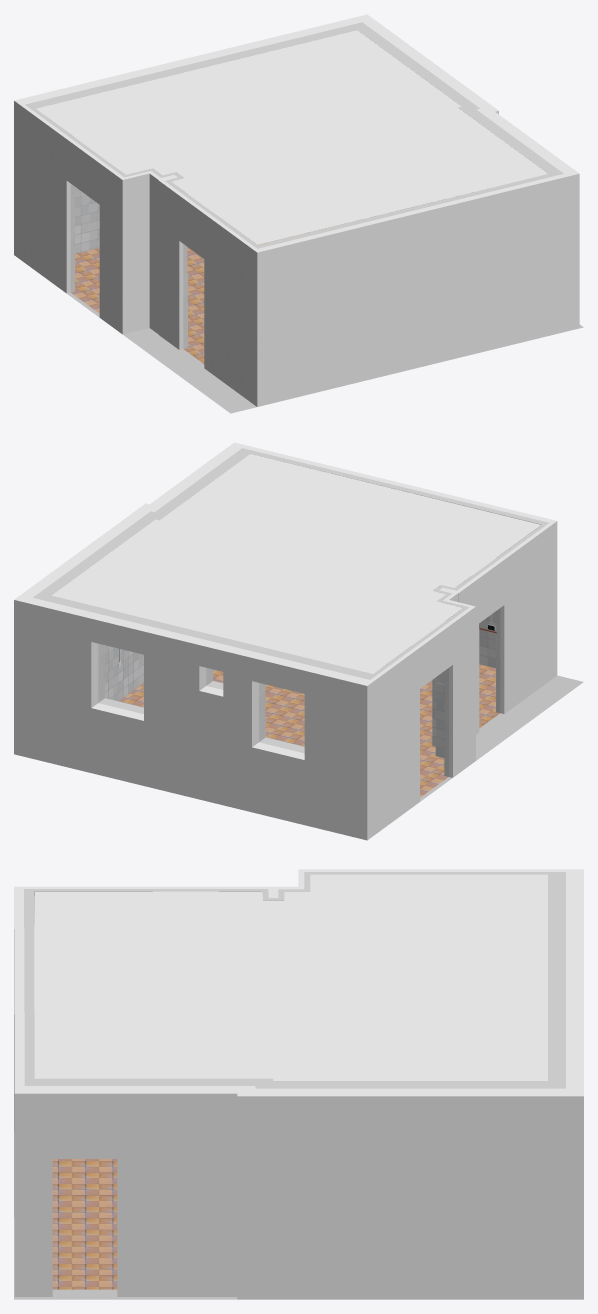
File: KüchenAssets.fbx
3 views of the same model, one above another, from view 1: azimuth 30°, elevation 25°; view 2: azimuth 150°, elevation 25°; view 3: azimuth 270°, elevation 25° (orthographic). The views are drawn at different scales.
Visible parts, largest first — view 1: Küche; view 2: Küche; view 3: Küche.
Boxes of the visible parts, x1,y1,x2,y2 form: Küche: (14,14,583,413); Küche: (14,442,583,840); Küche: (14,869,583,1299).
Size of the model in its own units: 670 by 280 by 712.
Materials: 22 (6 with a texture image).
